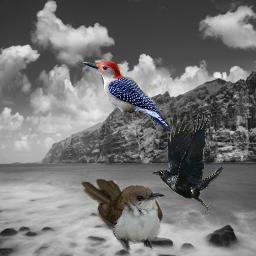Crow: (151, 110, 224, 216)
Cuckoo: (81, 178, 166, 254)
Woodpecker: (83, 61, 172, 130)
